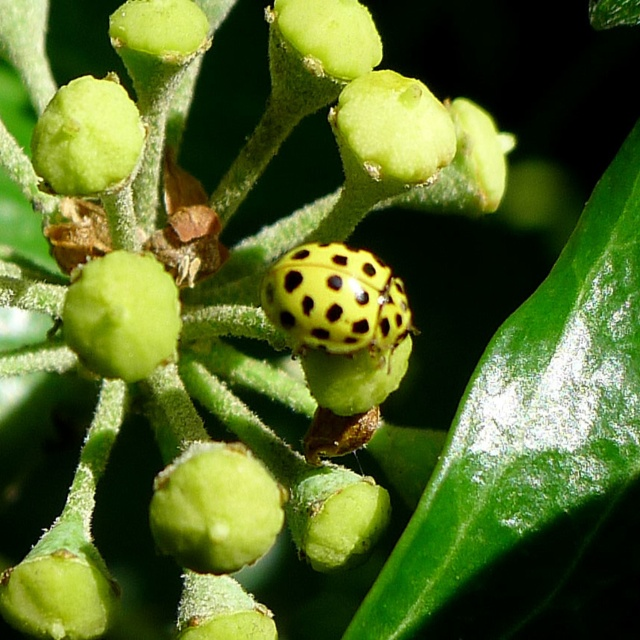Ladybug: (257, 241, 423, 375)
